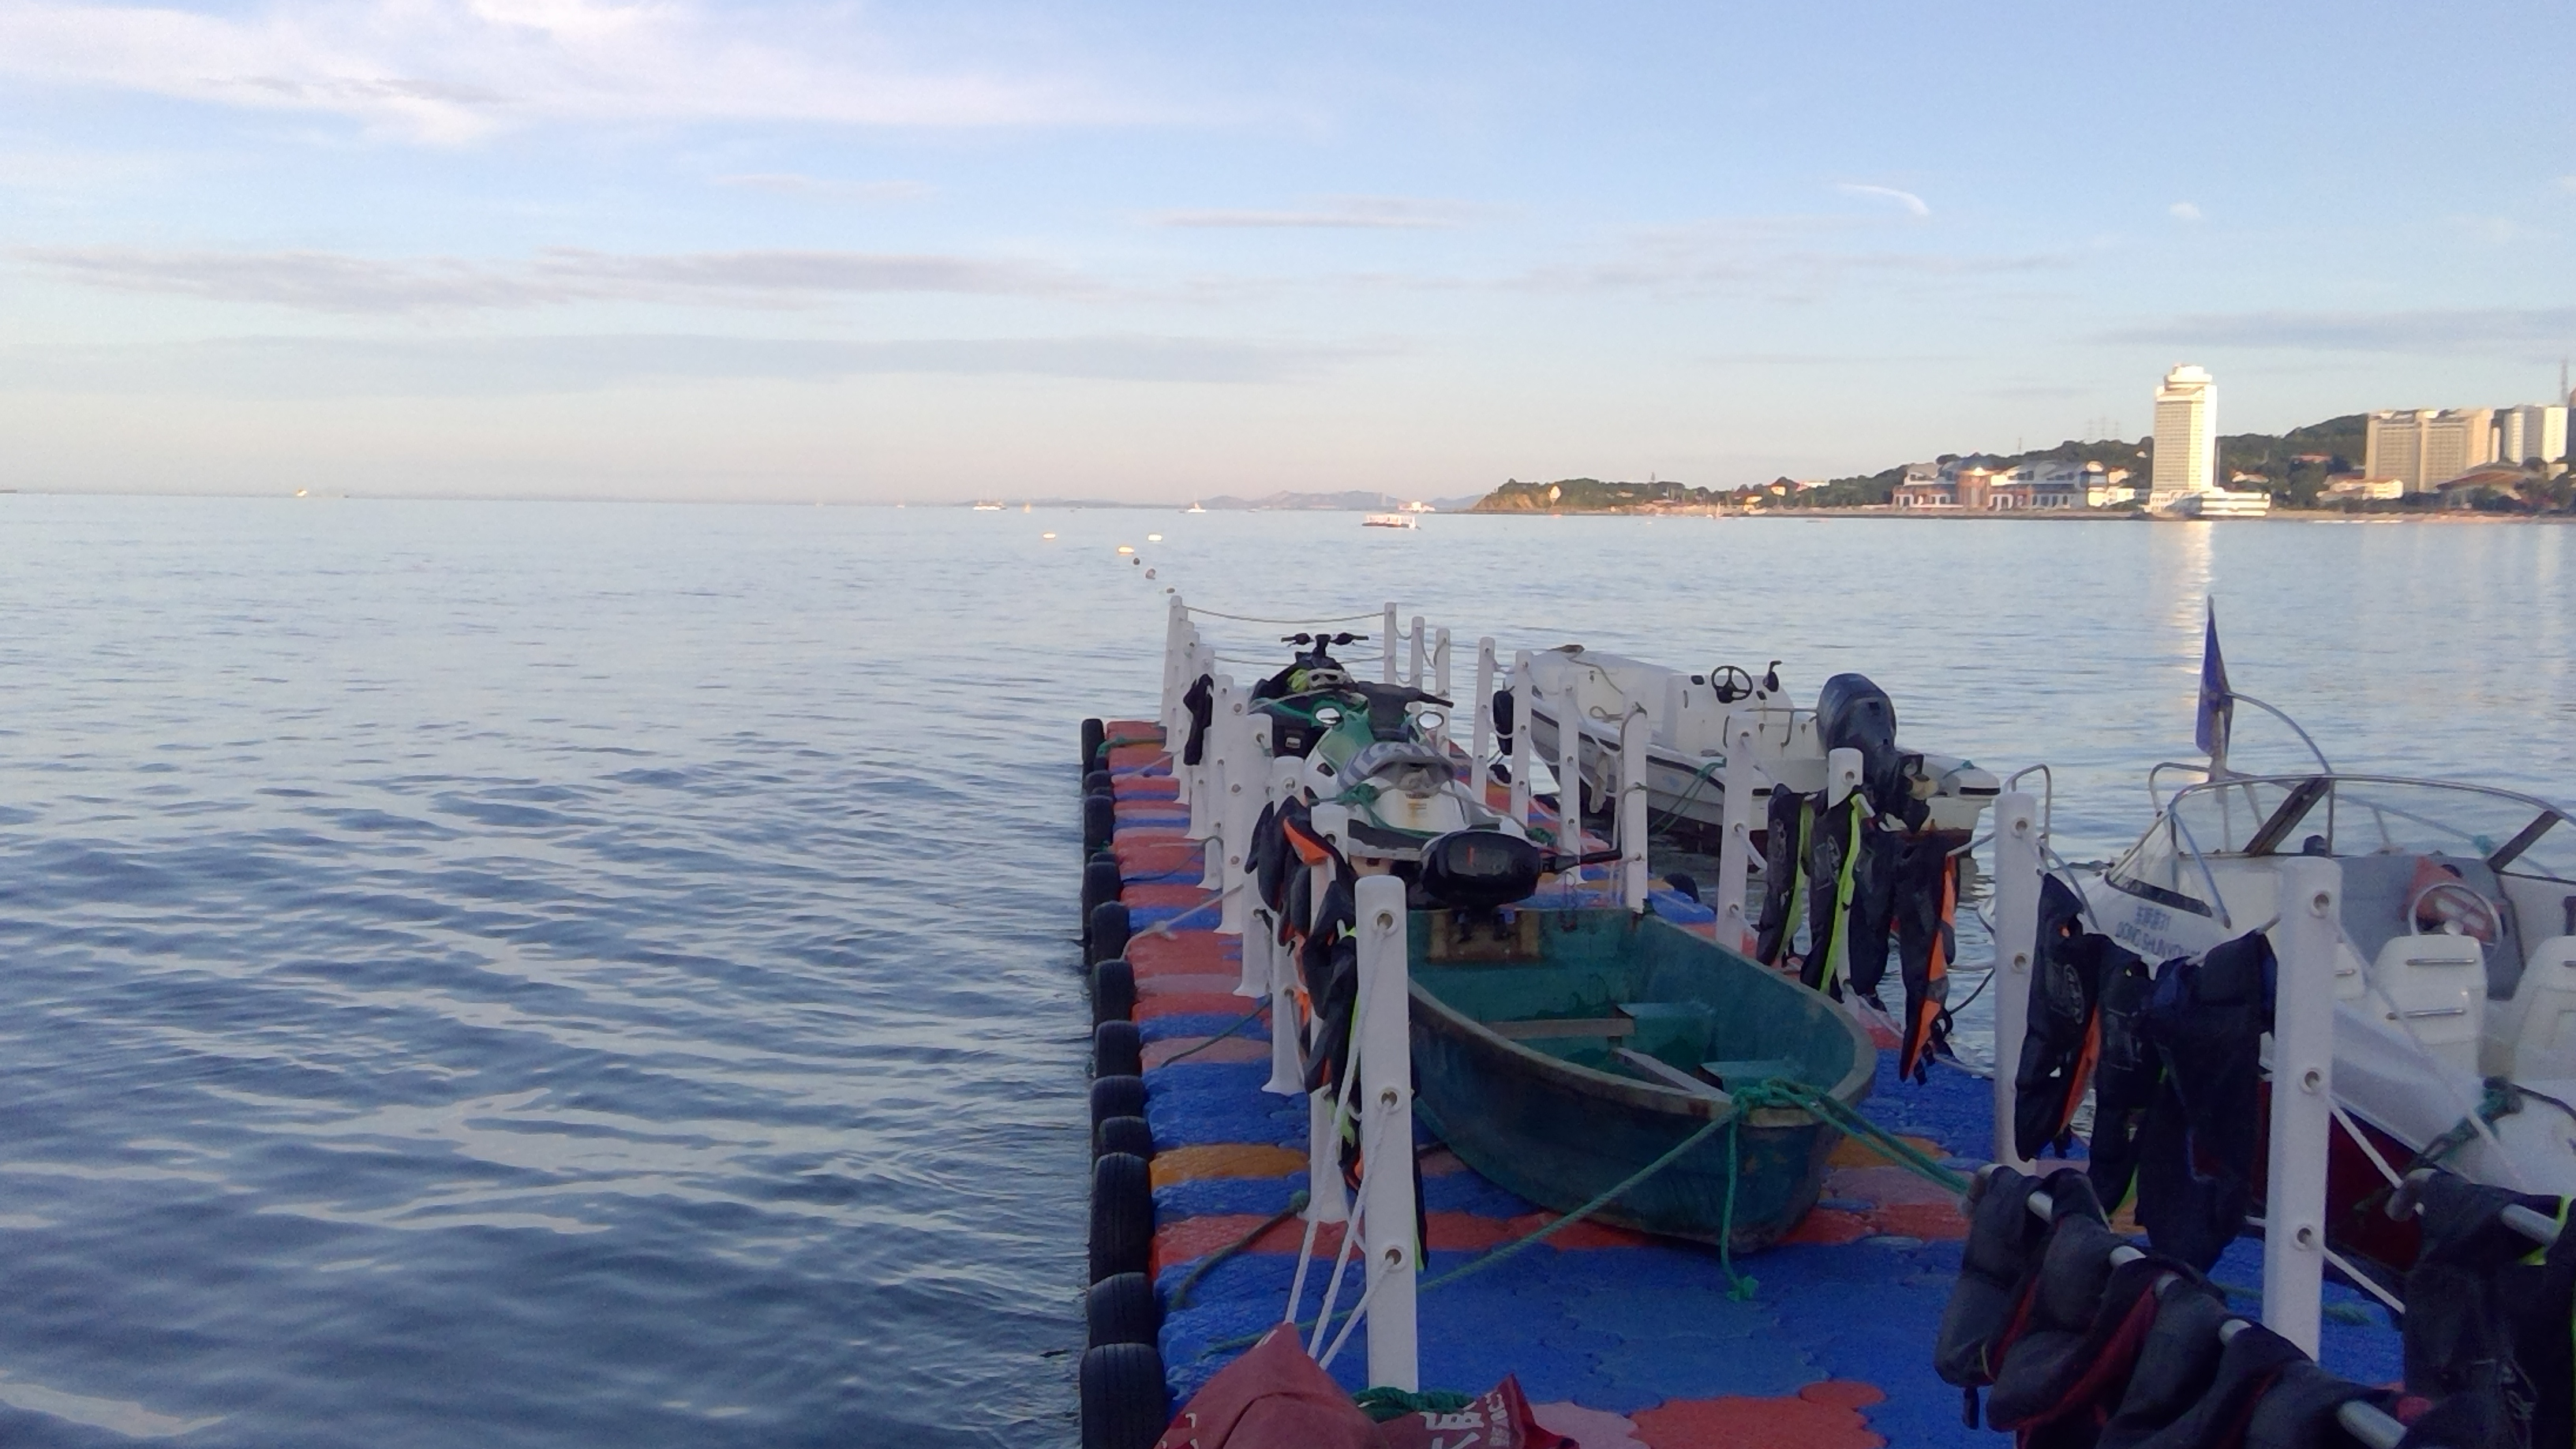boat: (2045, 623, 2576, 1279)
platform: (1054, 589, 2576, 1437)
